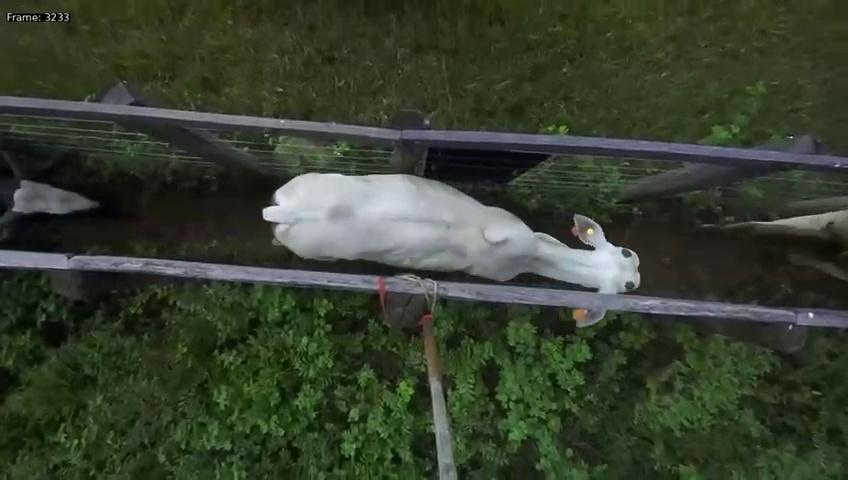cattle: (259, 156, 646, 329)
